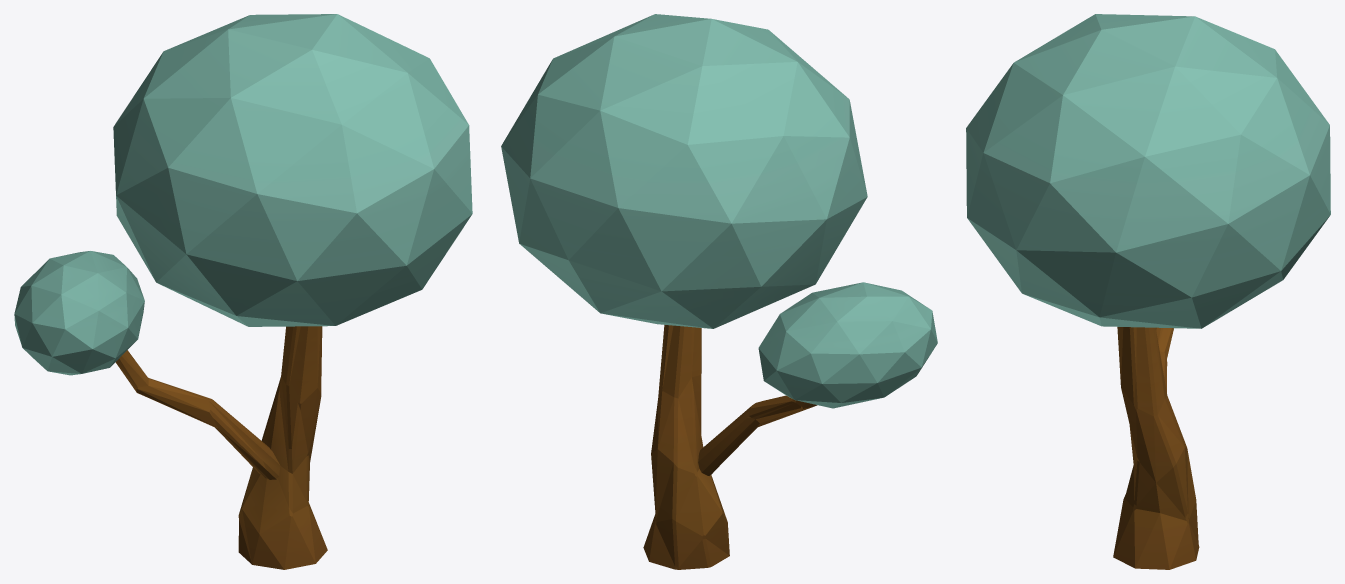
Rendered from tree_round.glb.
3 views of the same model, side by side, from view 1: azimuth 30°, elevation 25°; view 2: azimuth 150°, elevation 25°; view 3: azimuth 270°, elevation 25° (orthographic).
Parts seen in each view (by area): view 1: tree_round; view 2: tree_round; view 3: tree_round.
Boxes of the visible parts, x1,y1,x2,y2 form: tree_round: (14,14,472,569); tree_round: (501,14,937,569); tree_round: (966,14,1330,569).
Size of the model in its own units: 2.93 by 3.5 by 2.21.
Materials: 1 (1 with a texture image).
